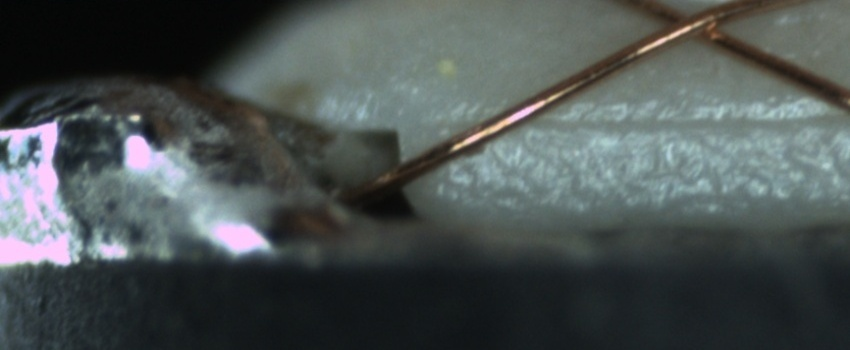CL: (639, 2, 746, 47)
DL: (441, 95, 849, 160)
